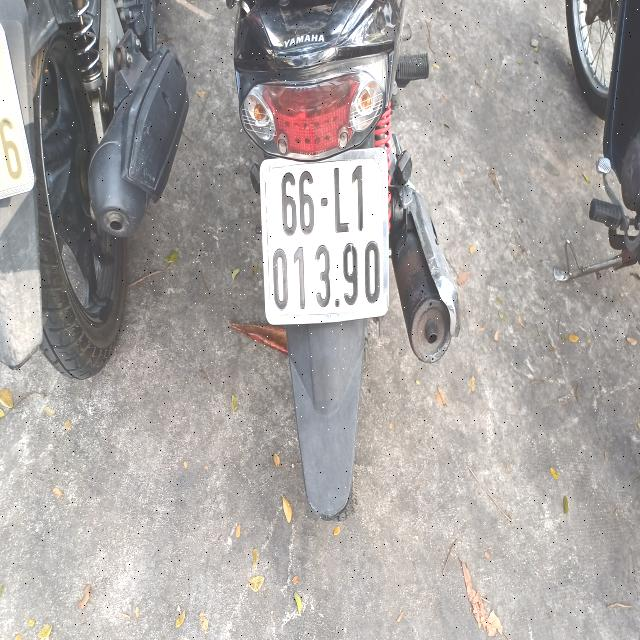0: (271, 244, 288, 313), (364, 238, 381, 306)
1: (292, 242, 308, 312), (352, 164, 366, 236)
3: (315, 241, 331, 309)
6: (280, 171, 298, 238), (299, 169, 314, 238)
9: (342, 239, 360, 310)
L: (332, 163, 351, 235)
